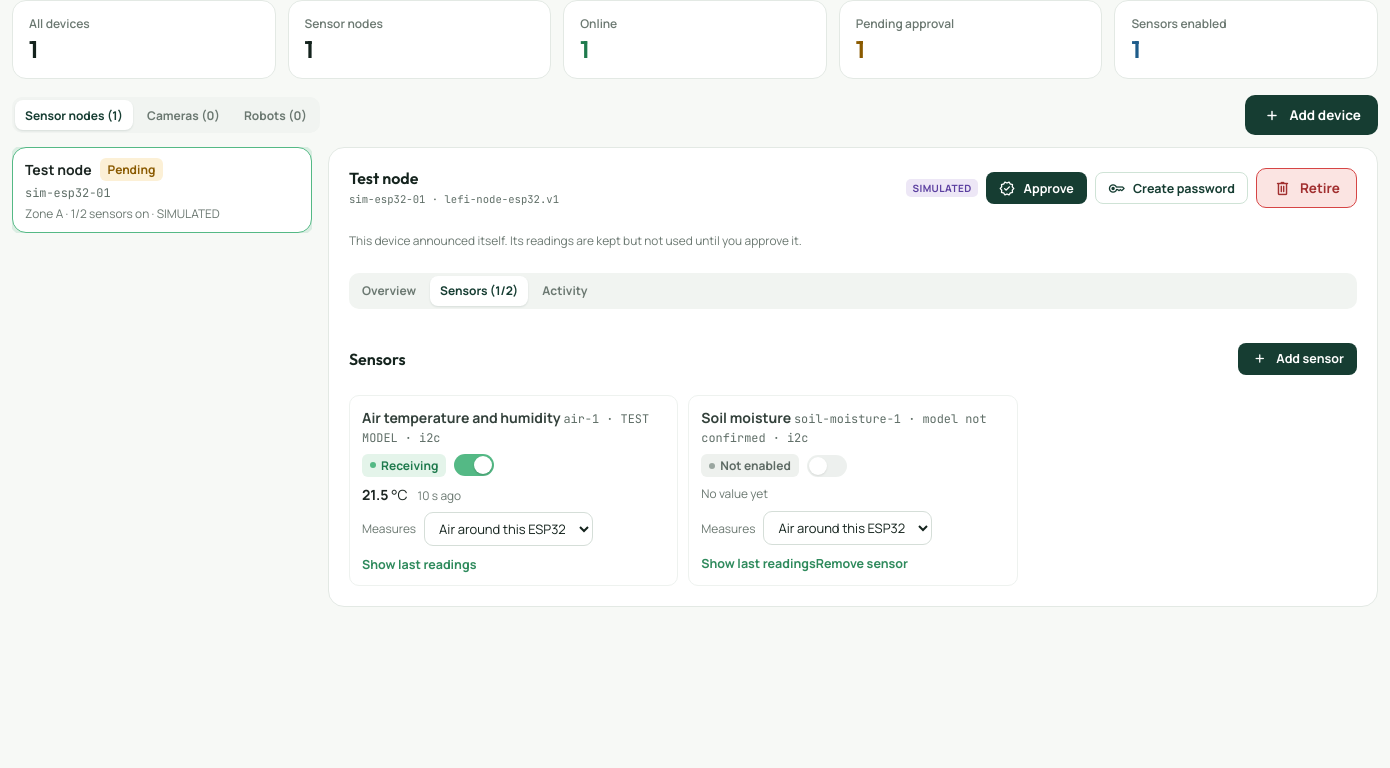
Scenario: Devices & Health against the real Lefi Brain › shows what the board printed, on demand
Click the tab "Activity" at (565, 291), box [532,276,598,306]
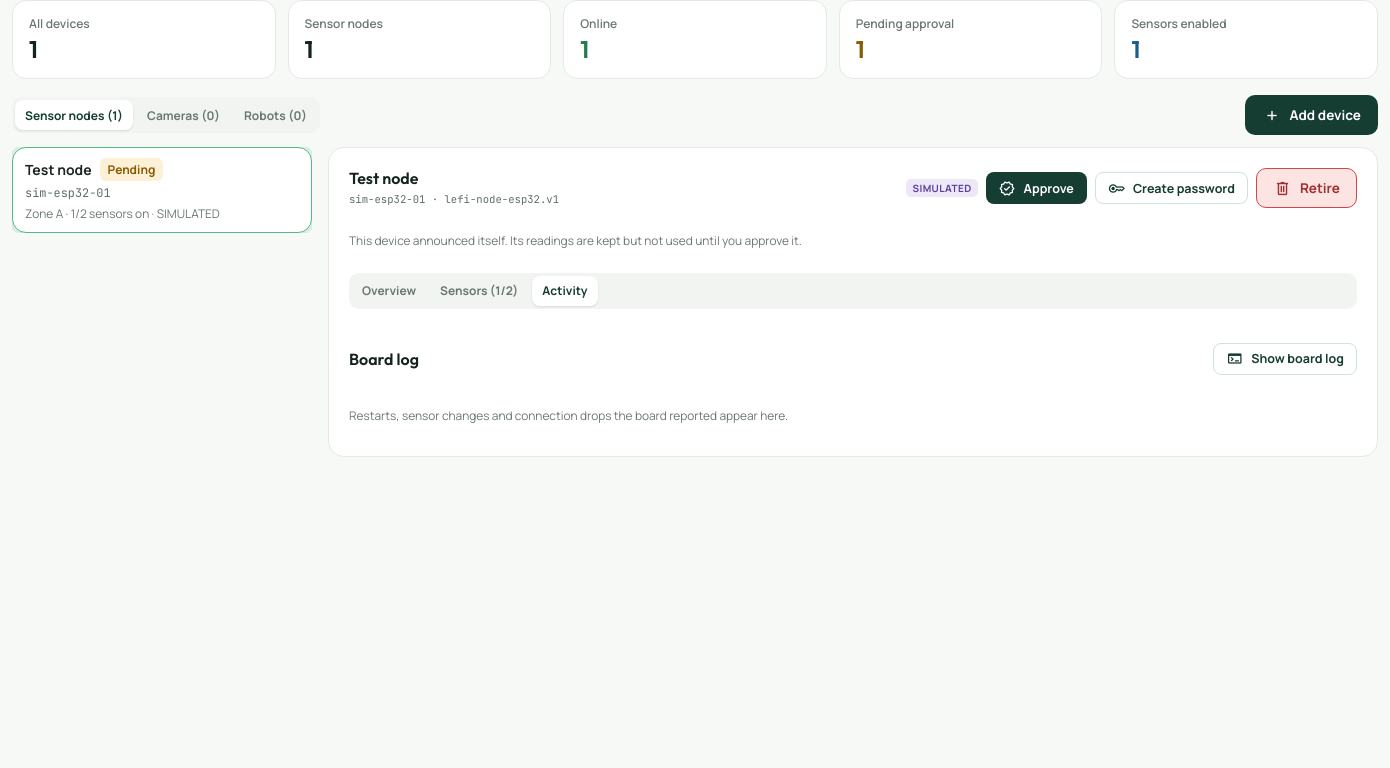
Click the button "Show board log" at (1285, 359), box [1213,343,1357,375]
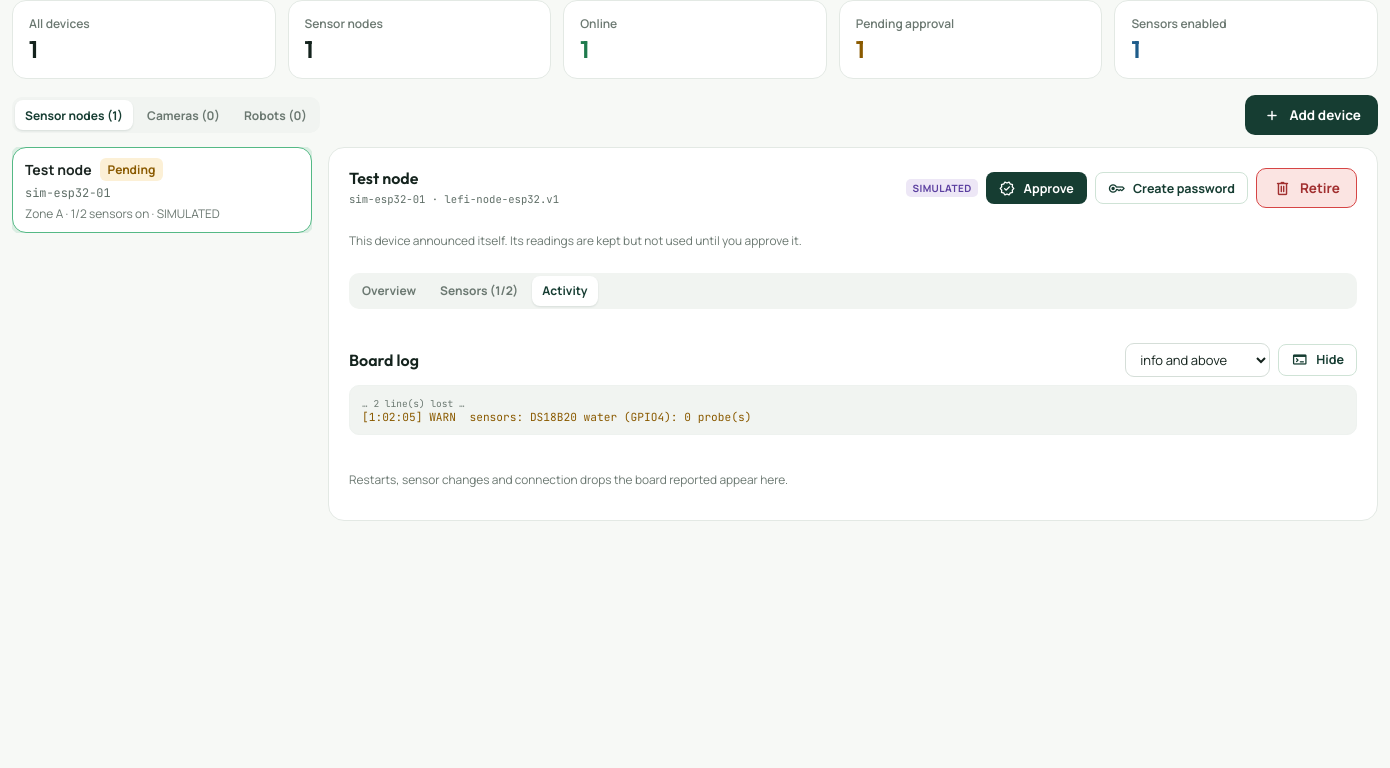
expect the text "DS18B20 water (GPIO4): 0 probe" is shown: met, box [530,410,751,424]
expect the text "… 2 line(s) lost …" is shown: met, box [362,397,465,410]
expect the element named "Board log" shows "[1:02:05] WARN sensors:": met, box [349,385,1357,435]
